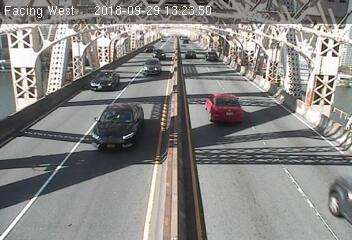car: (95, 100, 146, 154), (322, 174, 352, 226), (201, 92, 246, 126), (86, 67, 121, 94), (140, 58, 159, 76), (183, 46, 197, 60), (203, 51, 219, 61), (139, 45, 156, 54), (153, 50, 167, 60)
